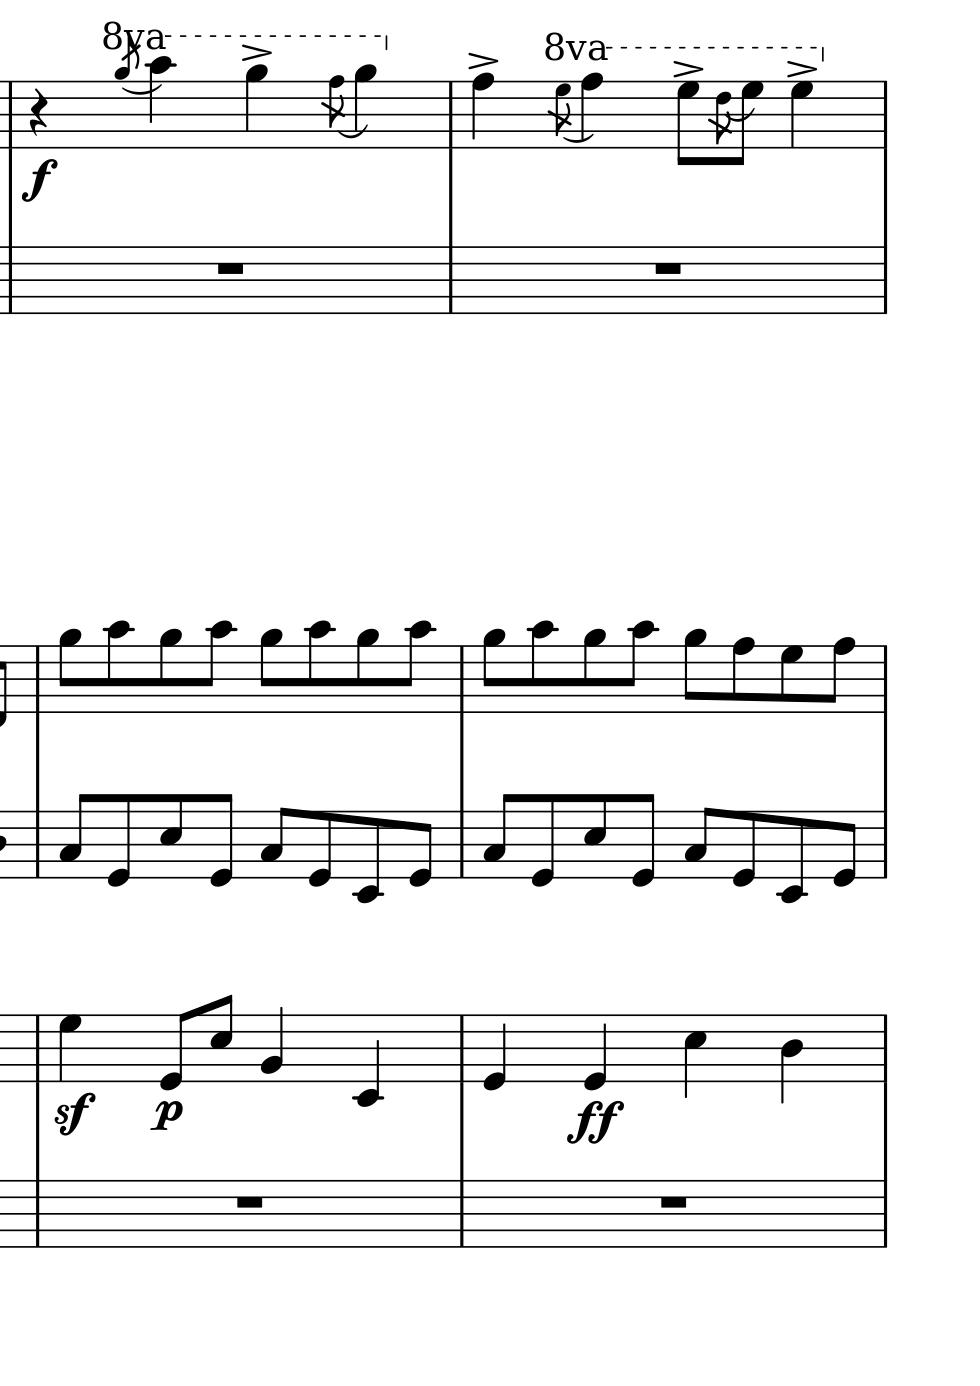4_-2: (352, 1011, 382, 1108)
4_0: (581, 1012, 609, 1092), (482, 1012, 508, 1092)
4_10: (146, 54, 174, 152)
4_2: (259, 1006, 285, 1084)
4_4: (777, 1012, 805, 1106)
4_5: (681, 1013, 708, 1102)
4_7: (56, 1012, 85, 1084), (788, 80, 813, 150)
4_8: (469, 71, 494, 150)
4_9: (243, 63, 269, 151)
8_-2: (351, 809, 383, 906), (775, 809, 807, 903)
8_0: (157, 1007, 193, 1093), (206, 791, 235, 891), (104, 792, 133, 891), (529, 792, 557, 891), (629, 792, 657, 891), (730, 808, 758, 890), (307, 808, 334, 890), (406, 809, 434, 889), (832, 809, 857, 889)
8_10: (398, 619, 433, 716), (622, 619, 655, 715), (202, 619, 234, 715), (103, 618, 132, 715), (528, 618, 555, 715), (305, 619, 332, 715)
8_3: (480, 792, 515, 881), (57, 792, 91, 881), (258, 805, 291, 881), (682, 805, 715, 880)
8_5: (156, 792, 185, 880), (580, 791, 608, 880), (208, 992, 234, 1084)
8_7: (735, 78, 764, 165), (673, 80, 699, 168), (778, 644, 804, 715)
8_8: (820, 636, 855, 715), (730, 636, 755, 716), (578, 71, 603, 150)
8_9: (56, 627, 83, 715), (257, 628, 283, 715), (682, 628, 707, 716), (351, 63, 377, 150), (157, 628, 182, 715), (354, 628, 379, 715), (482, 628, 506, 715), (581, 628, 606, 715)
Accent_above: (465, 51, 498, 71), (670, 59, 705, 78), (240, 43, 272, 63), (785, 60, 818, 78)
Acciaccature: (111, 32, 141, 152), (321, 73, 349, 150), (545, 81, 575, 150), (707, 80, 734, 150)
Rests1: (213, 258, 248, 278), (657, 1192, 690, 1211), (232, 1193, 267, 1211), (651, 258, 684, 277)
Rests4: (27, 87, 49, 138)
Single_barline: (451, 1179, 472, 1248), (453, 1015, 473, 1082), (452, 810, 471, 878), (874, 1180, 893, 1248), (452, 646, 471, 713), (441, 246, 459, 314), (28, 645, 46, 713), (442, 82, 460, 148), (876, 81, 893, 150), (875, 246, 892, 314), (876, 645, 893, 713), (29, 811, 46, 879), (876, 811, 893, 879), (28, 1180, 45, 1247), (2, 81, 18, 150), (876, 1014, 892, 1083), (2, 246, 18, 314), (30, 1015, 46, 1081)
Slur: (122, 83, 162, 95)
f: (22, 158, 60, 203)
ff: (562, 1096, 627, 1148)
p: (148, 1098, 183, 1133)
sf: (53, 1091, 94, 1136)
